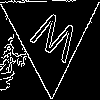W: (25, 9, 81, 72)
